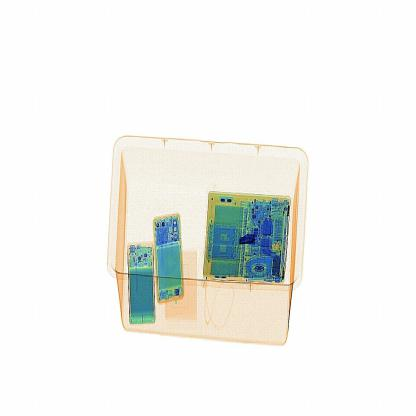knife: (235, 226, 260, 251)
